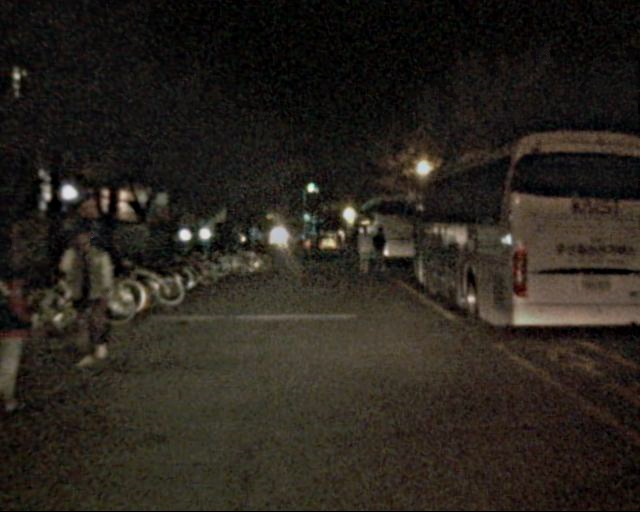person: (59, 225, 122, 367), (1, 234, 45, 420), (355, 229, 374, 276), (371, 227, 390, 274), (341, 227, 357, 265)
